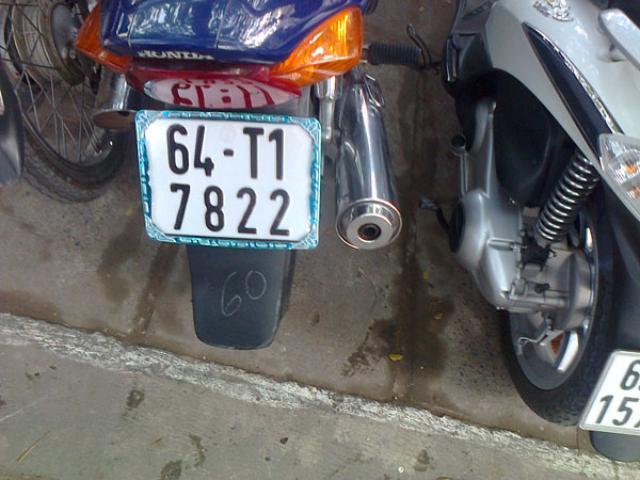plate: (147, 113, 316, 244)
